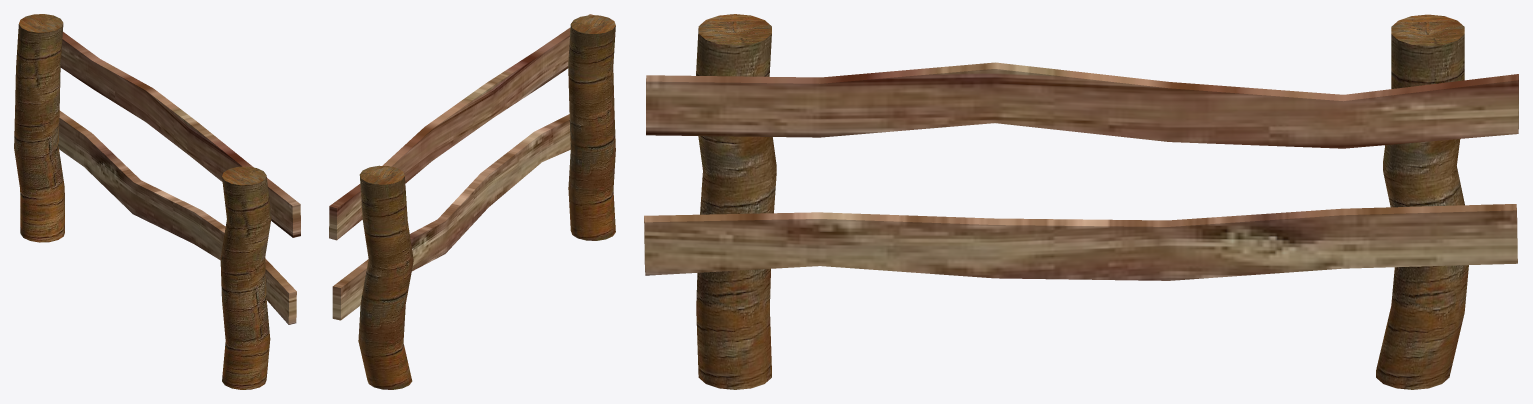
Rendered from barrière haute.FBX.
3 views of the same model, side by side, from view 1: azimuth 30°, elevation 25°; view 2: azimuth 150°, elevation 25°; view 3: azimuth 270°, elevation 25° (orthographic). The views are drawn at different scales.
Visible parts, largest first — view 1: Barrières droites; view 2: Barrières droites; view 3: Barrières droites.
Boxes of the visible parts, x1=… form: Barrières droites: x1=14, y1=14, x2=300, y2=389; Barrières droites: x1=329, y1=14, x2=615, y2=389; Barrières droites: x1=644, y1=14, x2=1518, y2=389.
Bounding box in the file's own units: 18.64 × 59.94 × 137.
